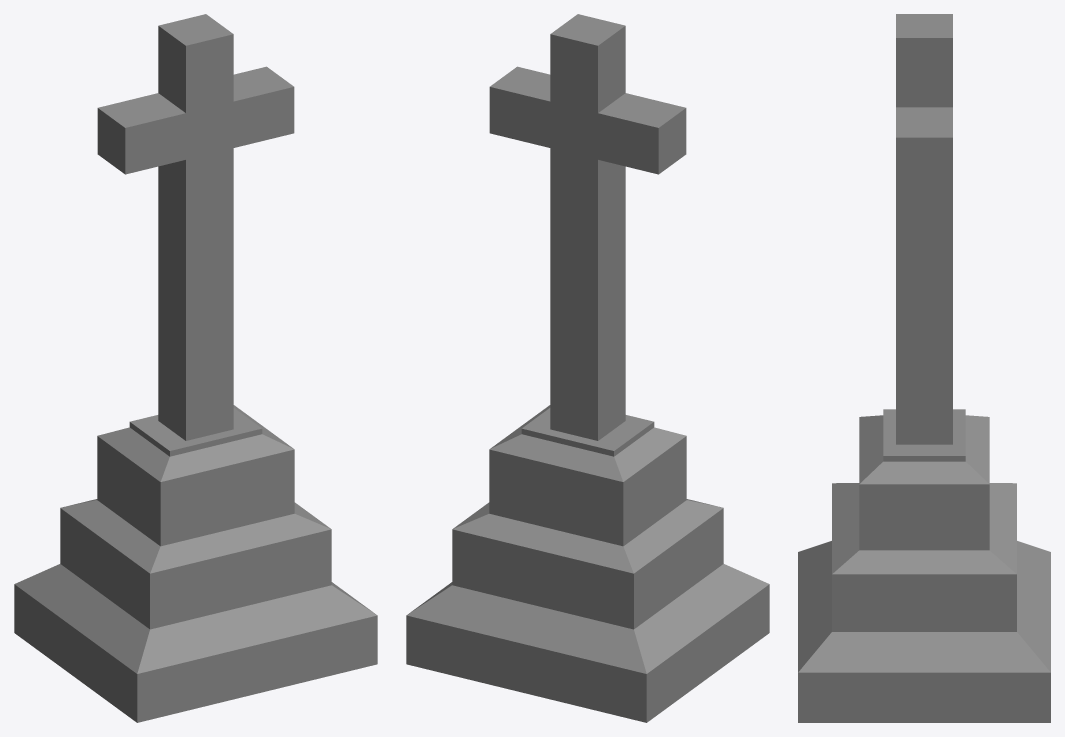
The model's file is Tombstone Cross 1.fbx.
3 views of the same model, side by side, from view 1: azimuth 30°, elevation 25°; view 2: azimuth 150°, elevation 25°; view 3: azimuth 270°, elevation 25° (orthographic). The views are drawn at different scales.
Parts seen in each view (by area): view 1: Tombstone Cross 1; view 2: Tombstone Cross 1; view 3: Tombstone Cross 1.
Boxes of the visible parts, <box> form: Tombstone Cross 1: <box>14,14,377,722</box>; Tombstone Cross 1: <box>406,14,769,722</box>; Tombstone Cross 1: <box>798,14,1050,722</box>.
Size of the model in its own units: 73.72 by 181 by 65.27.
